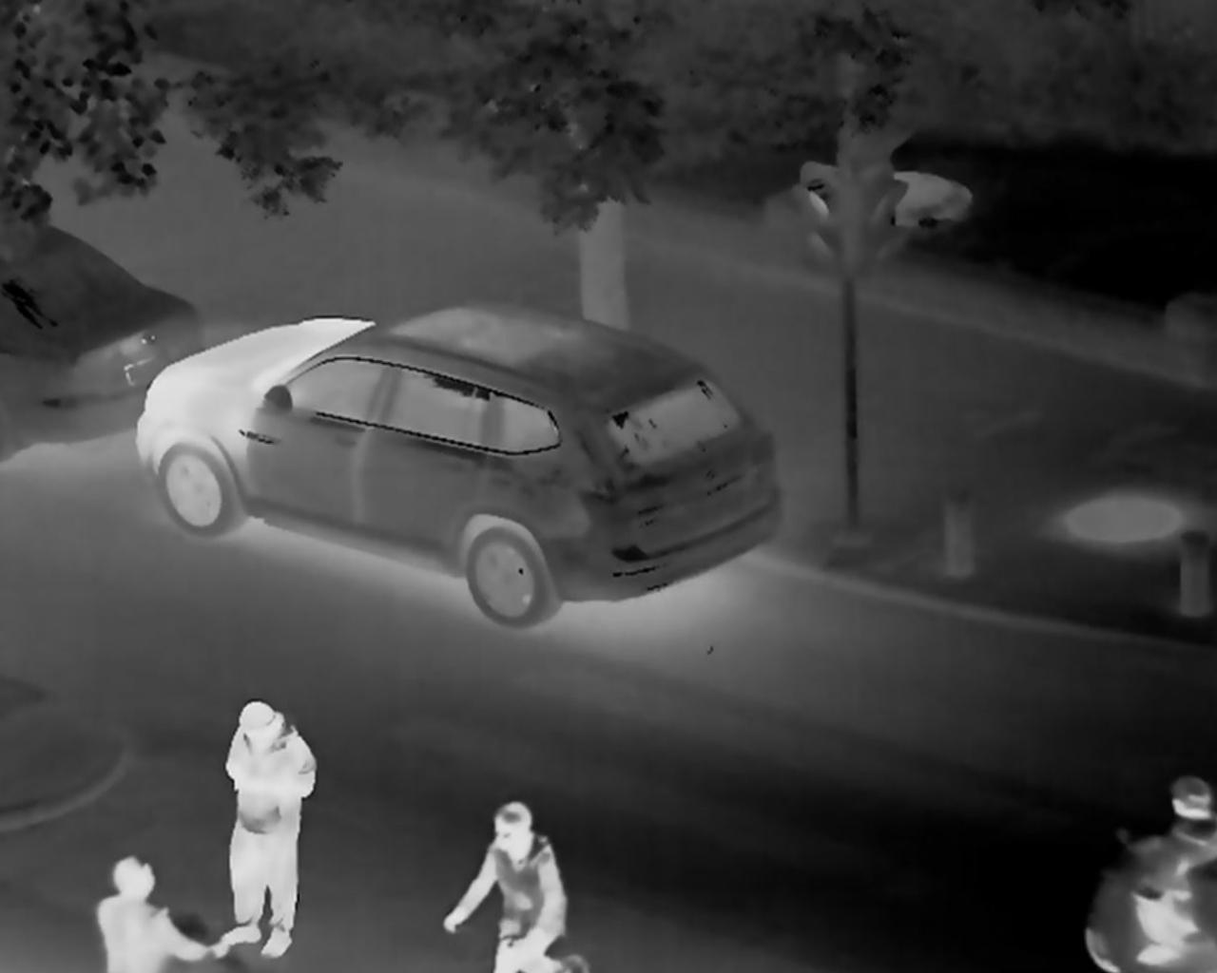person: (215, 696, 313, 958), (440, 798, 571, 973), (1131, 773, 1217, 965), (92, 851, 214, 973)
